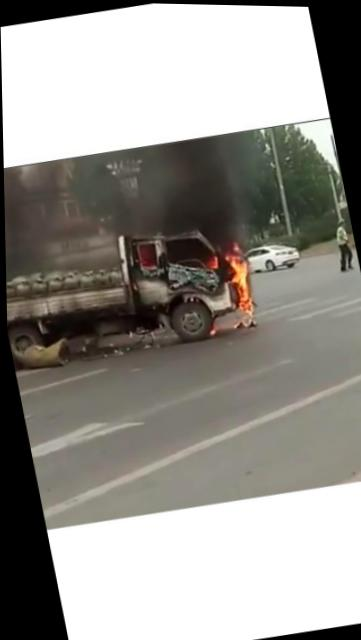fire: (227, 252, 256, 319)
